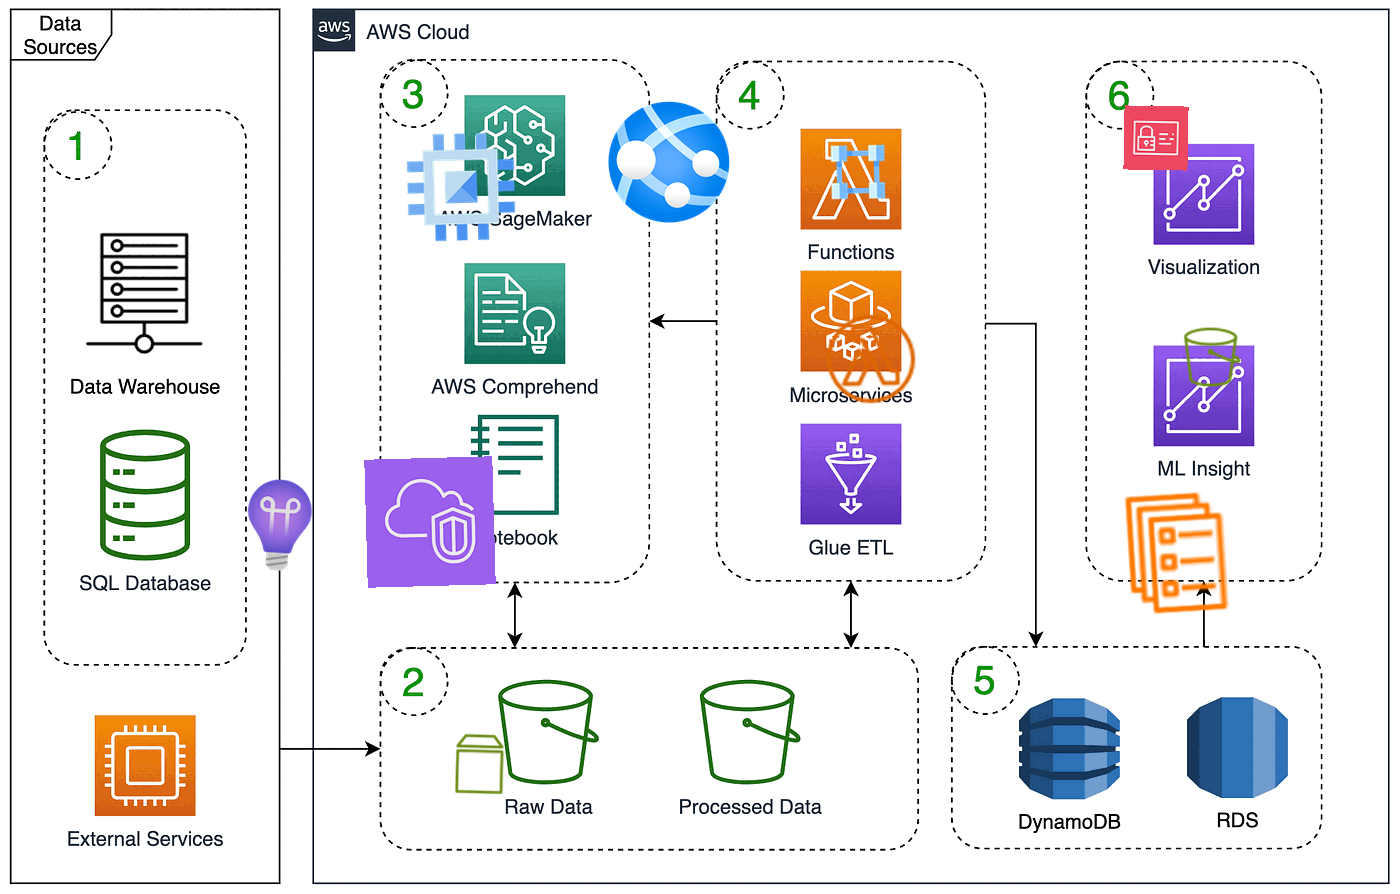aws_amazon_virtual_private_cloud: (364, 456, 496, 588)
aws_elastic_block_store_volume: (447, 731, 513, 797)
aws_elastic_container_service_service: (1109, 485, 1245, 620)
aws_identity_and_access_management: (1123, 105, 1189, 171)
aws_lambda_lambda_function: (822, 310, 920, 408)
aws_simple_storage_service_bucket: (1179, 324, 1245, 390)
azure_app_services: (604, 97, 734, 227)
azure_application_insights: (228, 474, 330, 576)
gcp_compute_engine: (395, 121, 527, 253)
gcp_virtual_private_cloud: (824, 139, 891, 205)
